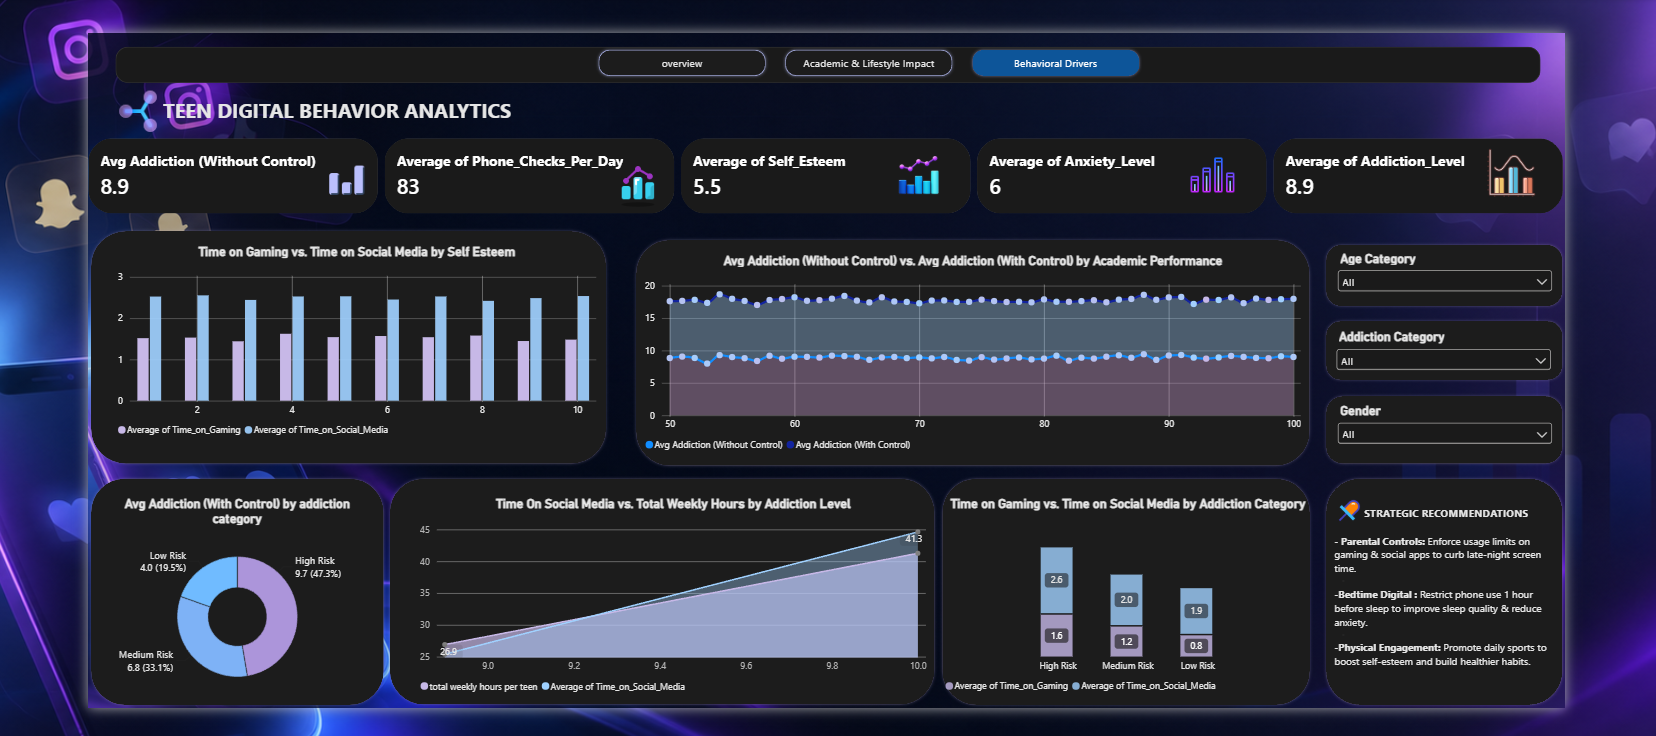

The page's visual inventory and layout, read from the dashboard file:
{"tool":"powerbi","page":{"name":"Behavioral Drivers","canvas":[1970,900],"ordinal":2},"visuals":[{"type":"cardVisual","fields":{"Data":["teen_phone_addiction_dataset.Avg Addiction (Without Control)","Avg(teen_phone_addiction_dataset.Phone_Checks_Per_Day)","Avg(teen_phone_addiction_dataset.Self_Esteem)","Avg(teen_phone_addiction_dataset.Anxiety_Level)","Avg(teen_phone_addiction_dataset.Addiction_Level)"]},"box":[0,140,1970,101.7],"z":0},{"type":"shape","box":[36.7,18.3,1900,48.3],"z":1000},{"type":"image","box":[275,151.7,83.3,75],"z":2000},{"type":"image","box":[1463.3,141.7,71.7,95],"z":3000},{"type":"image","box":[1066.7,143.3,73.3,95],"z":4000},{"type":"image","box":[663.3,140,86.7,96.7],"z":5000},{"type":"image","box":[1858.3,151.7,78.3,70],"z":6000},{"type":"shape","box":[398.4,590.6,734.4,309.4],"z":7000},{"type":"lineChart","title":"Time On Social Media vs. Total Weekly Hours by Addiction Level","fields":{"Category":["teen_phone_addiction_dataset.Addiction_Level"],"Y":["teen_phone_addiction_dataset.total weekly hours per teen"],"Y2":["Avg(teen_phone_addiction_dataset.Time_on_Social_Media)"]},"box":[426.6,603.1,707.8,296.9],"z":8000},{"type":"shape","box":[1134.4,590.6,498.3,310],"z":9000},{"type":"shape","box":[0,590,398.3,310],"z":10000},{"type":"pieChart","title":" Avg Addiction (With Control) by addiction category","fields":{"Category":["teen_phone_addiction_dataset.Addiction Category"],"Y":["teen_phone_addiction_dataset.Avg Addiction (With Control)"]},"box":[0,603.3,398.3,296.7],"z":11000},{"type":"columnChart","title":"Time on Gaming vs. Time on Social Media by Addiction Category","fields":{"Category":["teen_phone_addiction_dataset.Addiction Category"],"Y":["Avg(teen_phone_addiction_dataset.Time_on_Gaming)","Avg(teen_phone_addiction_dataset.Time_on_Social_Media)"]},"box":[1126.7,603.3,520,296.7],"z":12000},{"type":"shape","box":[726.6,271.9,906.2,309.4],"z":13000},{"type":"shape","box":[1646.7,590,323.3,310],"z":15000},{"type":"shape","box":[0,259.4,695,318.3],"z":17000},{"type":"lineClusteredColumnComboChart","title":"Time on Gaming vs. Time on Social Media by Self Esteem","fields":{"Category":["teen_phone_addiction_dataset.Self_Esteem"],"Y":["Avg(teen_phone_addiction_dataset.Time_on_Gaming)","Avg(teen_phone_addiction_dataset.Time_on_Social_Media)"]},"box":[23.4,267.2,670.3,292.2],"z":18000},{"type":"shape","box":[1646.7,255,323.3,100],"z":19000},{"type":"shape","box":[1646.7,363.3,323.3,100],"z":20000},{"type":"shape","box":[1646.7,463.3,323.3,100],"z":21000},{"type":"slicer","fields":{"Values":["teen_phone_addiction_dataset.Gender"]},"box":[1660,480,295,65],"z":22000},{"type":"slicer","fields":{"Values":["teen_phone_addiction_dataset.Age Category"]},"box":[1660,271.7,295,66.7],"z":23000},{"type":"slicer","fields":{"Values":["teen_phone_addiction_dataset.Addiction Category"]},"box":[1661.7,380,295,65],"z":24000},{"type":"pageNavigator","box":[676.7,18.3,730,43.3],"z":25000},{"type":"textbox","box":[100,85,490,43.3],"z":26000},{"type":"image","box":[36.7,56.7,60,95],"z":27000},{"type":"stackedAreaChart","title":"Avg Addiction (Without Control) vs. Avg Addiction (With Control) by Academic Performance","fields":{"Category":["teen_phone_addiction_dataset.Academic_Performance"],"Y":["teen_phone_addiction_dataset.Avg Addiction (Without Control)","teen_phone_addiction_dataset.Avg Addiction (With Control)"]},"box":[726.7,278.3,906.7,300],"z":27001},{"type":"textbox","box":[1661.7,630,295,270],"z":27002},{"type":"image","box":[1661.7,615,40,41.7],"z":27003}]}

Visuals, with their boxes on the page's 1970x900 design canvas (x1, y1, x2, y2). These are canvas units, not pixel positions in the 1656x736 screenshot, which may show the page scaled, cropped or inside an application window:
cardVisual - teen_phone_addiction_dataset.Avg Addiction (Without Control) x Avg(teen_phone_addiction_dataset.Phone_Checks_Per_Day): bbox(0, 140, 1970, 242)
shape: bbox(37, 18, 1937, 67)
image: bbox(275, 152, 358, 227)
image: bbox(1463, 142, 1535, 237)
image: bbox(1067, 143, 1140, 238)
image: bbox(663, 140, 750, 237)
image: bbox(1858, 152, 1937, 222)
shape: bbox(398, 591, 1133, 900)
"Time On Social Media vs. Total Weekly Hours by Addiction Level" lineChart: bbox(427, 603, 1134, 900)
shape: bbox(1134, 591, 1633, 901)
shape: bbox(0, 590, 398, 900)
" Avg Addiction (With Control) by addiction category" pieChart: bbox(0, 603, 398, 900)
"Time on Gaming vs. Time on Social Media by Addiction Category" columnChart: bbox(1127, 603, 1647, 900)
shape: bbox(727, 272, 1633, 581)
shape: bbox(1647, 590, 1970, 900)
shape: bbox(0, 259, 695, 578)
"Time on Gaming vs. Time on Social Media by Self Esteem" lineClusteredColumnComboChart: bbox(23, 267, 694, 559)
shape: bbox(1647, 255, 1970, 355)
shape: bbox(1647, 363, 1970, 463)
shape: bbox(1647, 463, 1970, 563)
slicer - teen_phone_addiction_dataset.Gender: bbox(1660, 480, 1955, 545)
slicer - teen_phone_addiction_dataset.Age Category: bbox(1660, 272, 1955, 338)
slicer - teen_phone_addiction_dataset.Addiction Category: bbox(1662, 380, 1957, 445)
pageNavigator: bbox(677, 18, 1407, 62)
textbox: bbox(100, 85, 590, 128)
image: bbox(37, 57, 97, 152)
"Avg Addiction (Without Control) vs. Avg Addiction (With Control) by Academic Performance" stackedAreaChart: bbox(727, 278, 1633, 578)
textbox: bbox(1662, 630, 1957, 900)
image: bbox(1662, 615, 1702, 657)
